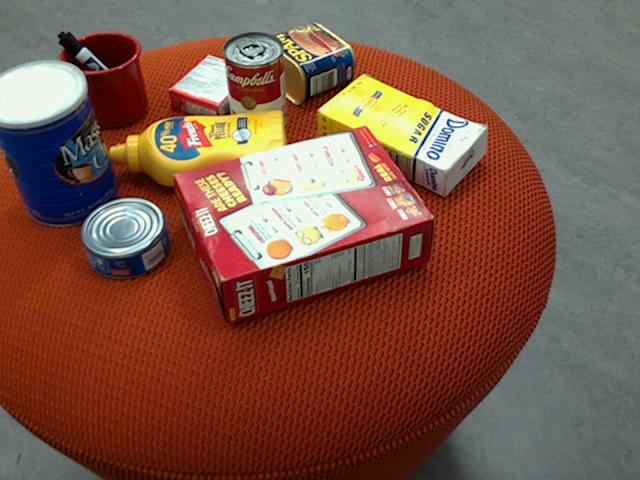cracker_box: (173, 125, 434, 322)
gelatin_box: (168, 53, 259, 122)
large_marker: (57, 30, 144, 112)
master_chef_can: (0, 59, 119, 227)
mug: (46, 31, 148, 128)
mustard_bottle: (110, 110, 288, 187)
potted_meat_can: (255, 23, 356, 105)
sugar_box: (317, 74, 490, 195)
tomato_soup_can: (223, 30, 287, 137)
tuna_fish_can: (80, 198, 171, 280)
